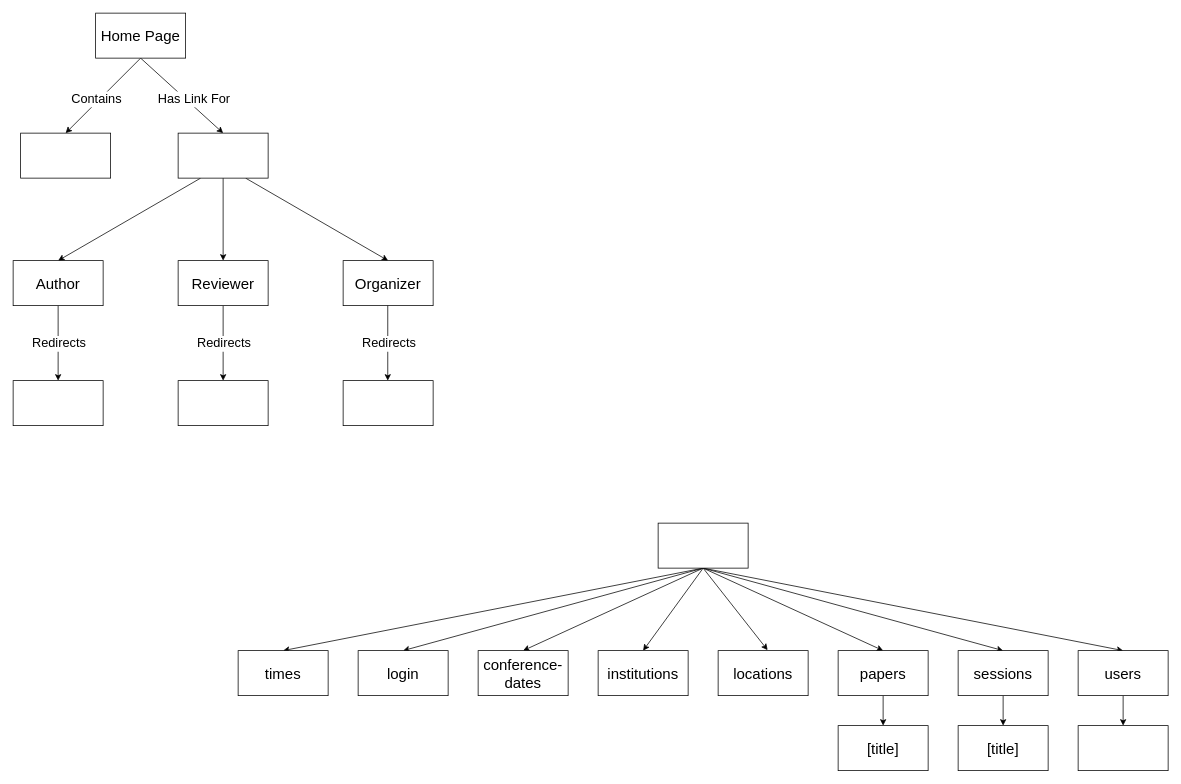
This 1181x784 diagram has some shape labels left out. The shapes that lost their labels are listed below. From the top down, each one's centre as x and y in pixels, then its label:
point 65,155: Schedule (for guests)
point 222,155: Login Page
point 57,403: Submit Paper Page
point 222,403: Review Page
point 387,403: Session Edit Page
point 702,545: api
point 1122,748: [id]
